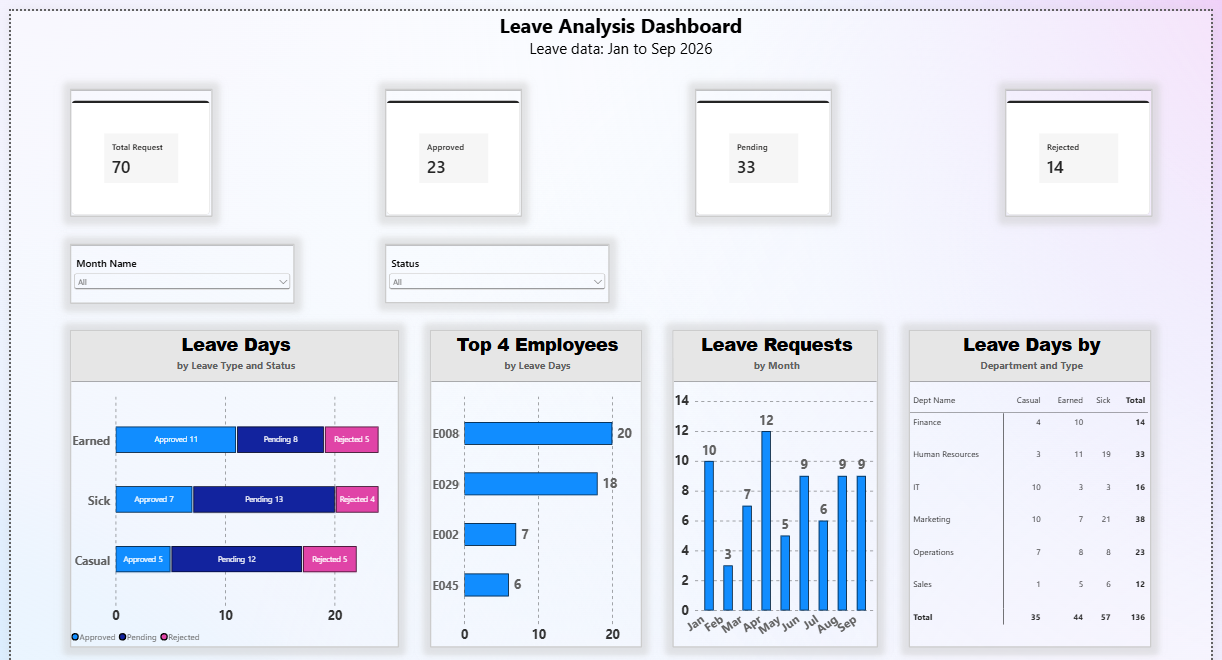

Layout of this report page (visuals, bound fields, positions):
{"tool":"powerbi","page":{"name":"Leaves","canvas":[1920,1080],"ordinal":1},"visuals":[{"type":"barChart","fields":{"Category":["Leaves.Leave Type"],"Series":["Leaves.Status"],"Y":["CountNonNull(Leaves.Leave ID)"]},"box":[94.7,510.5,526.9,508.4],"z":0},{"type":"columnChart","title":"Leave Requests","fields":{"Category":["Calendar.Month Name"],"Y":["CountNonNull(Leaves.Leave ID)"]},"box":[1058.7,510.5,329.3,508.4],"z":1000},{"type":"slicer","fields":{"Values":["Leaves.Status"]},"box":[599,372.6,360,96],"z":2000},{"type":"slicer","fields":{"Values":["Calendar.Month Name"]},"box":[94.7,372.6,360.2,96.7],"z":3000},{"type":"pivotTable","title":"Leave Days by","fields":{"Columns":["Leaves.Leave Type"],"Rows":["Department.Dept Name"],"Values":["Sum(Leaves.Days)"]},"box":[1436.7,510.5,389,508.4],"z":4000},{"type":"barChart","title":"Top 4 Employees","fields":{"Category":["Leaves.Emp ID"],"Y":["Leaves.total leave days"]},"box":[670.3,510.5,339.6,508.4],"z":5000},{"type":"textbox","box":[771.9,0,407.5,109.1],"z":6000},{"type":"cardVisual","fields":{"Data":["Leaves.Total Request"]},"box":[94.7,123.5,228.5,205.8],"z":7000},{"type":"cardVisual","fields":{"Data":["Leaves.Approved"]},"box":[598.3,123.5,220.2,205.8],"z":8000},{"type":"cardVisual","fields":{"Data":["Leaves.Pending"]},"box":[1093.7,123.5,220.2,205.8],"z":9000},{"type":"cardVisual","fields":{"Data":["Leaves.Rejected"]},"box":[1589,123.5,236.7,205.8],"z":10000},{"type":"textbox","box":[94.7,1045.6,773.9,35],"z":11000}]}

Visuals, with their boxes on the page's 1920x1080 design canvas (x1, y1, x2, y2). These are canvas units, not pixel positions in the 1222x660 screenshot, which may show the page scaled, cropped or inside an application window:
barChart - Leaves.Leave Type x Leaves.Status: select_region(95, 510, 622, 1019)
"Leave Requests" columnChart: select_region(1059, 510, 1388, 1019)
slicer - Leaves.Status: select_region(599, 373, 959, 469)
slicer - Calendar.Month Name: select_region(95, 373, 455, 469)
"Leave Days by" pivotTable: select_region(1437, 510, 1826, 1019)
"Top 4 Employees" barChart: select_region(670, 510, 1010, 1019)
textbox: select_region(772, 0, 1179, 109)
cardVisual - Leaves.Total Request: select_region(95, 124, 323, 329)
cardVisual - Leaves.Approved: select_region(598, 124, 818, 329)
cardVisual - Leaves.Pending: select_region(1094, 124, 1314, 329)
cardVisual - Leaves.Rejected: select_region(1589, 124, 1826, 329)
textbox: select_region(95, 1046, 869, 1081)
